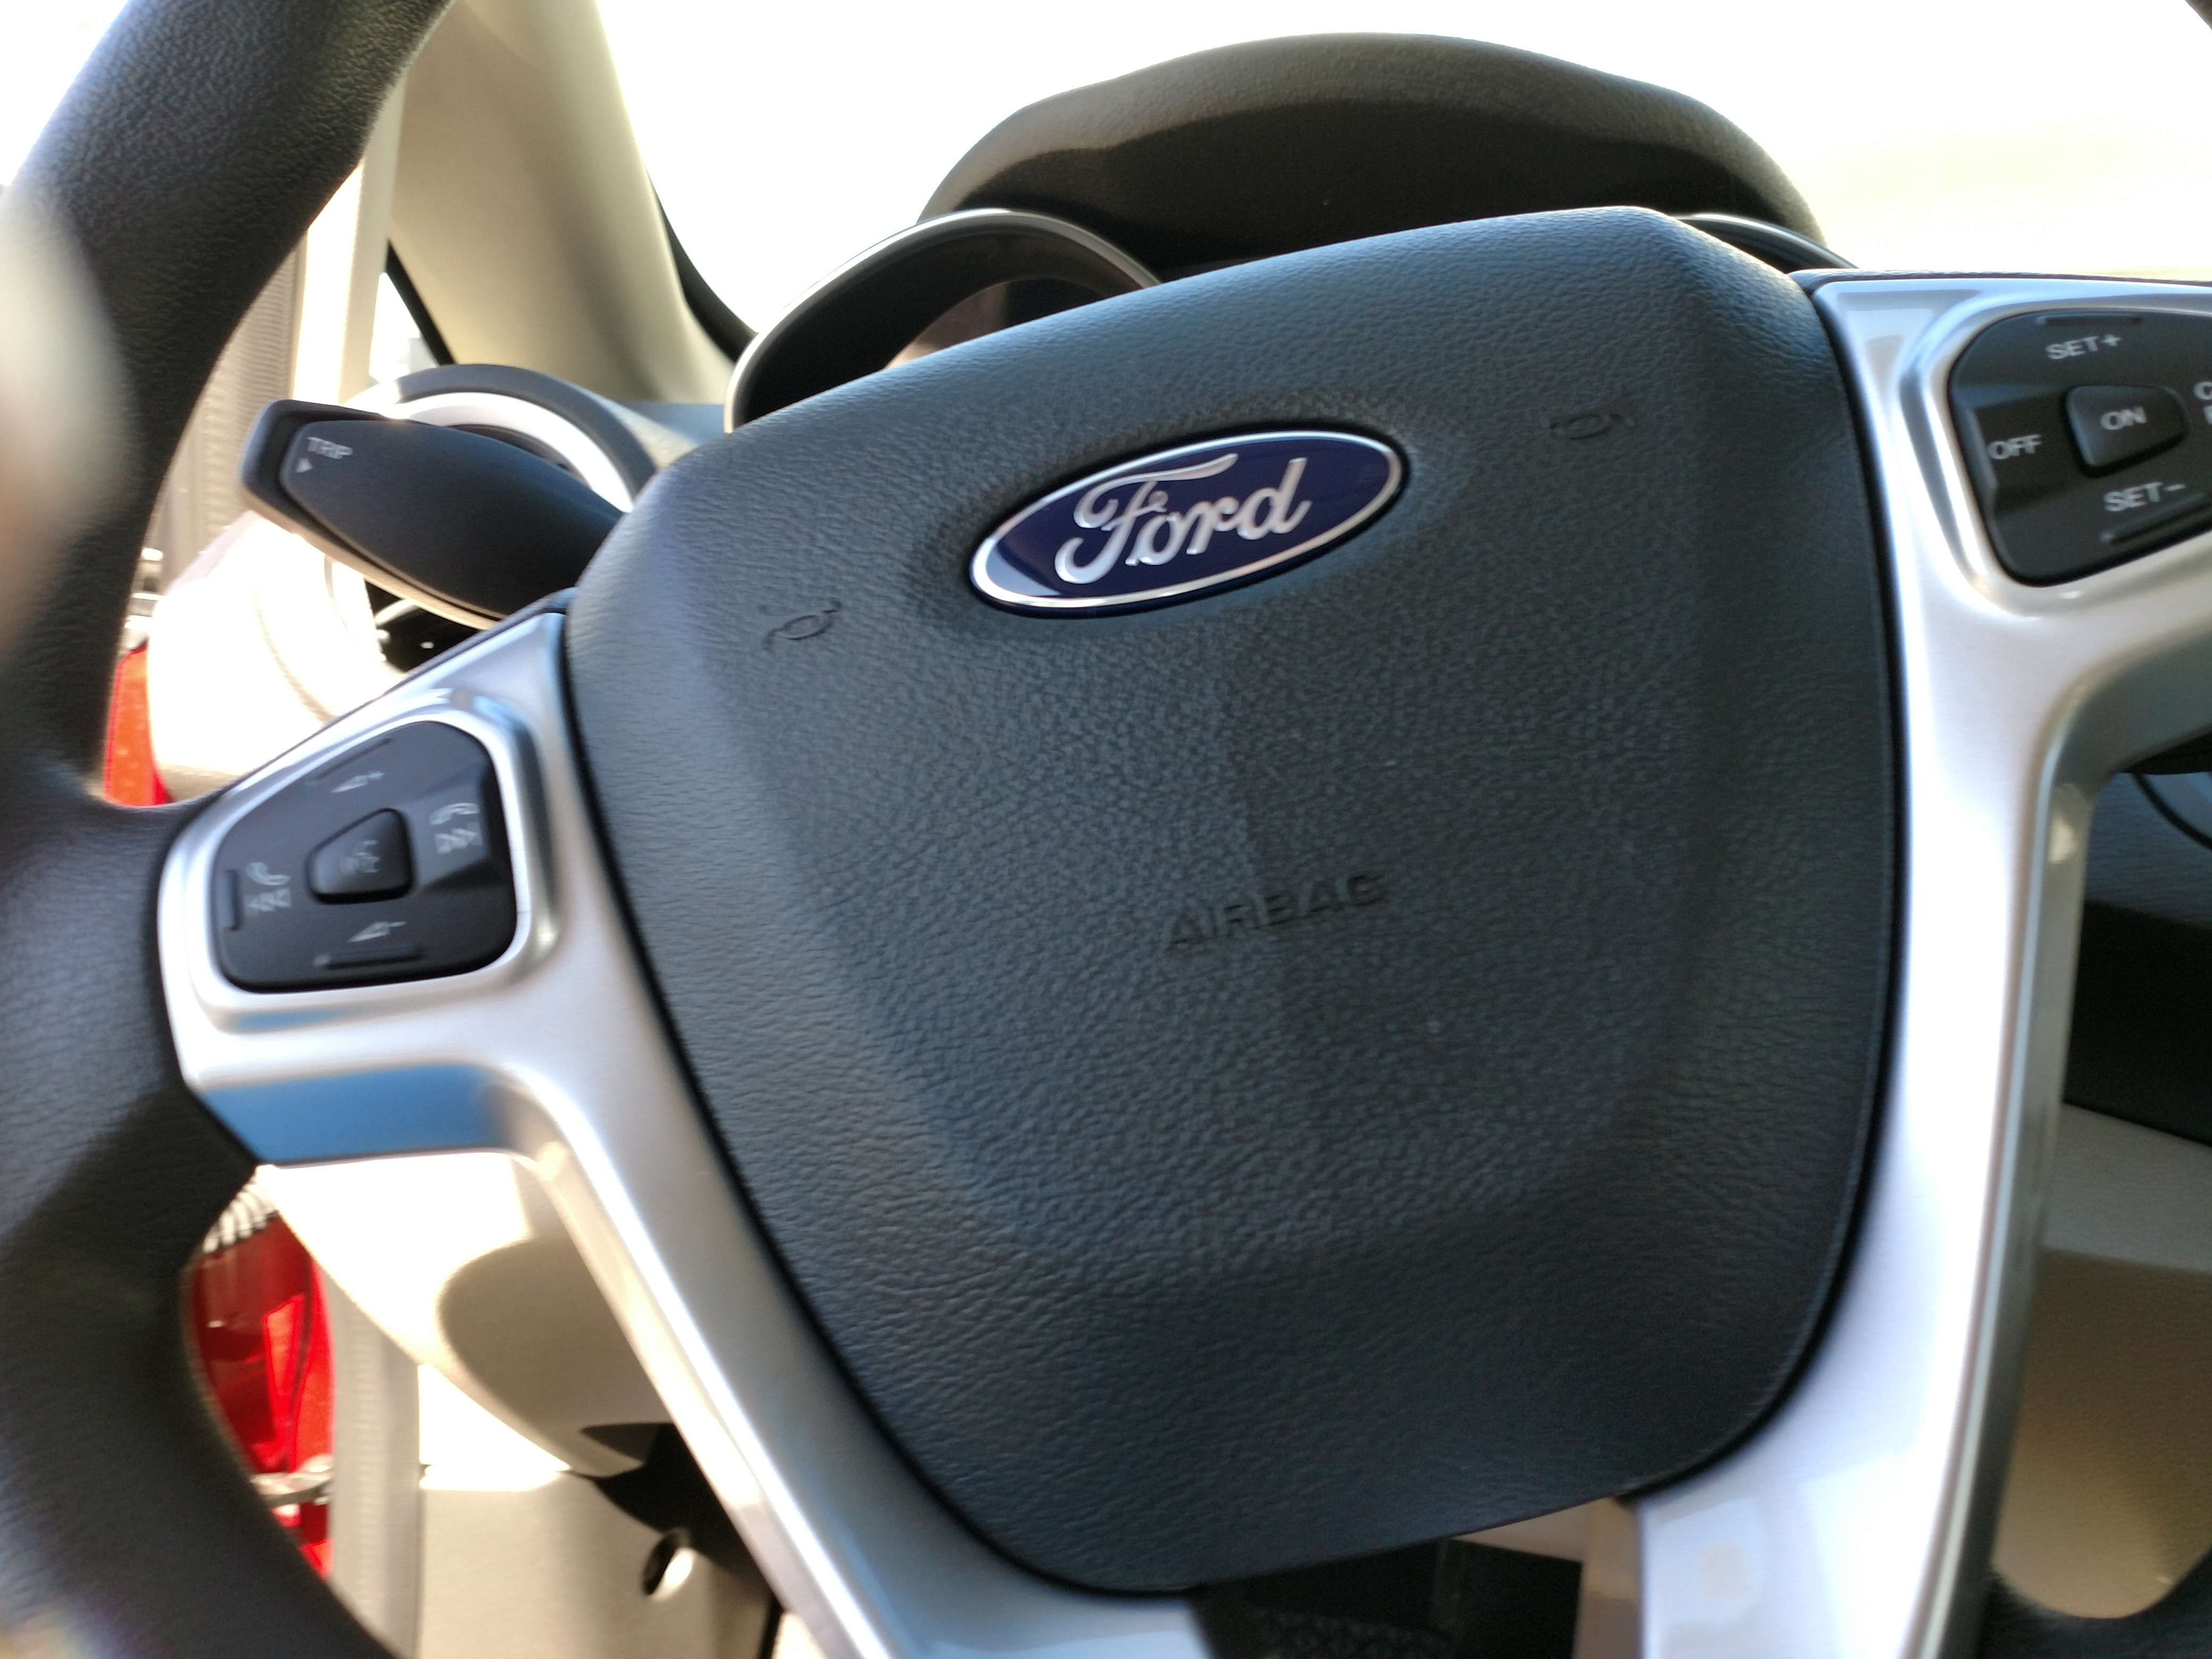Ford: (960, 415, 1416, 624)
